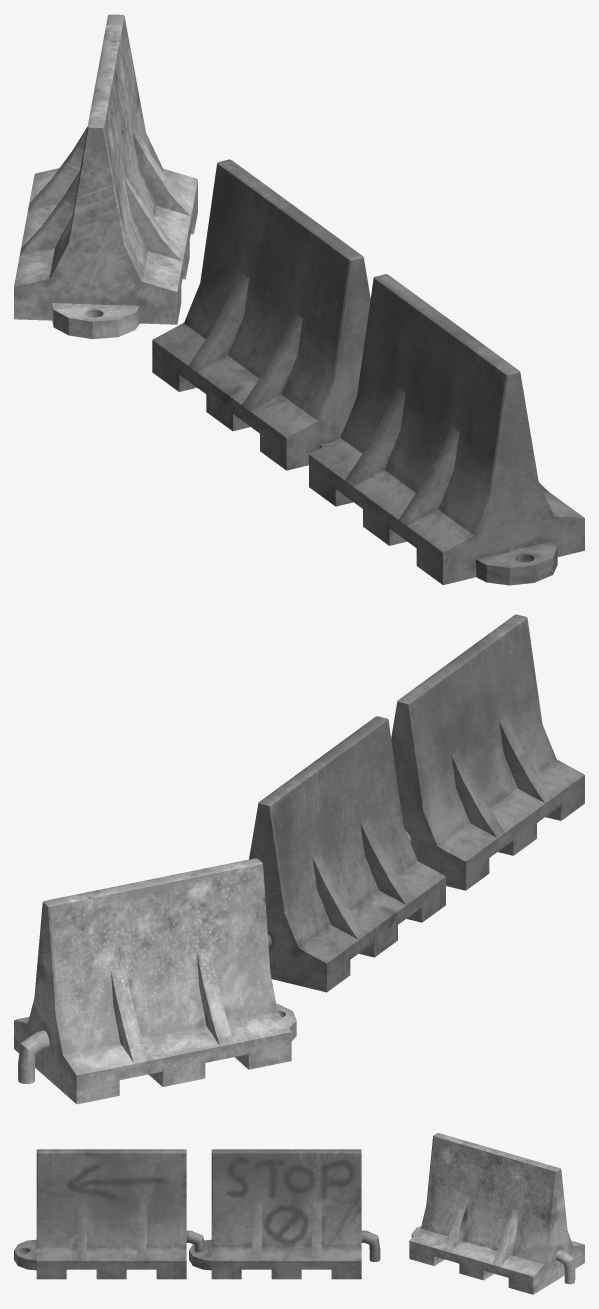
Rendered from newBarrier.fbx.
The picture shows the model from 3 angles, top to bottom: view 1: azimuth 30°, elevation 25°; view 2: azimuth 150°, elevation 25°; view 3: azimuth 270°, elevation 25°; orthographic projection. The views are drawn at different scales.
Parts seen in each view (by area): view 1: 2; view 2: 2; view 3: 2.
Part boxes in pixels (x1,y1,x2,y2): 2: (14, 14, 584, 585); 2: (14, 614, 584, 1104); 2: (14, 1133, 584, 1294).
Size of the model in its own units: 214 by 161 by 761.
1 material, 1 textured.
